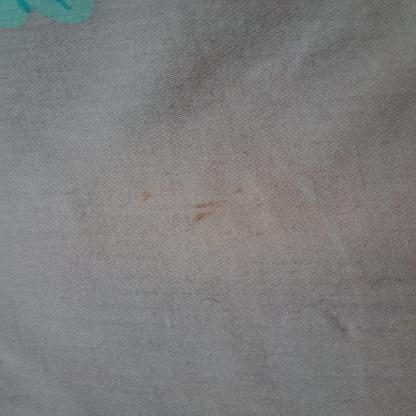spot: (189, 207, 219, 228), (137, 185, 159, 203), (185, 198, 220, 209), (224, 184, 254, 195)
